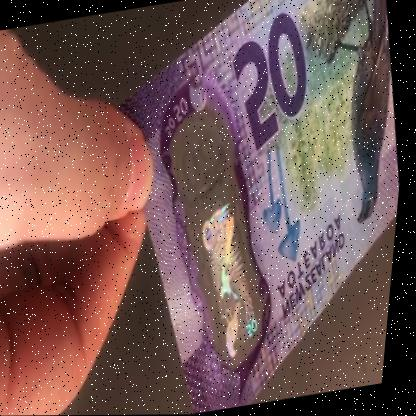50B: (162, 117, 286, 369)
